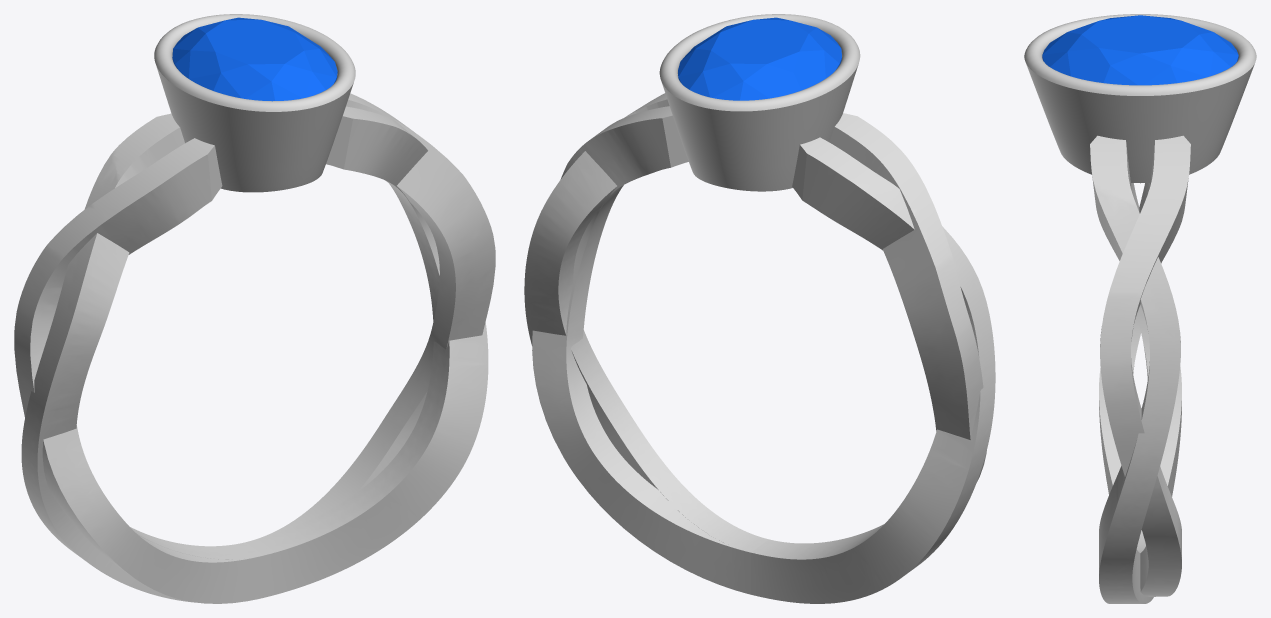
The model's file is bluesapphire-oval-platinum-bezelset-twist-nosidestones.glb.
3 views of the same model, side by side, from view 1: azimuth 30°, elevation 25°; view 2: azimuth 150°, elevation 25°; view 3: azimuth 270°, elevation 25° (orthographic).
Visible parts, largest first — view 1: metal.002, stone; view 2: metal.002, stone; view 3: metal.002, stone.
Boxes of the visible parts, box(x1,y1,x2,y2) form: metal.002: box(14, 14, 495, 603); stone: box(172, 17, 337, 101); metal.002: box(524, 14, 995, 603); stone: box(678, 17, 841, 100); metal.002: box(1024, 14, 1256, 603); stone: box(1042, 15, 1238, 85).
Bounding box in the file's own units: 19.97 × 23.31 × 9.04.
